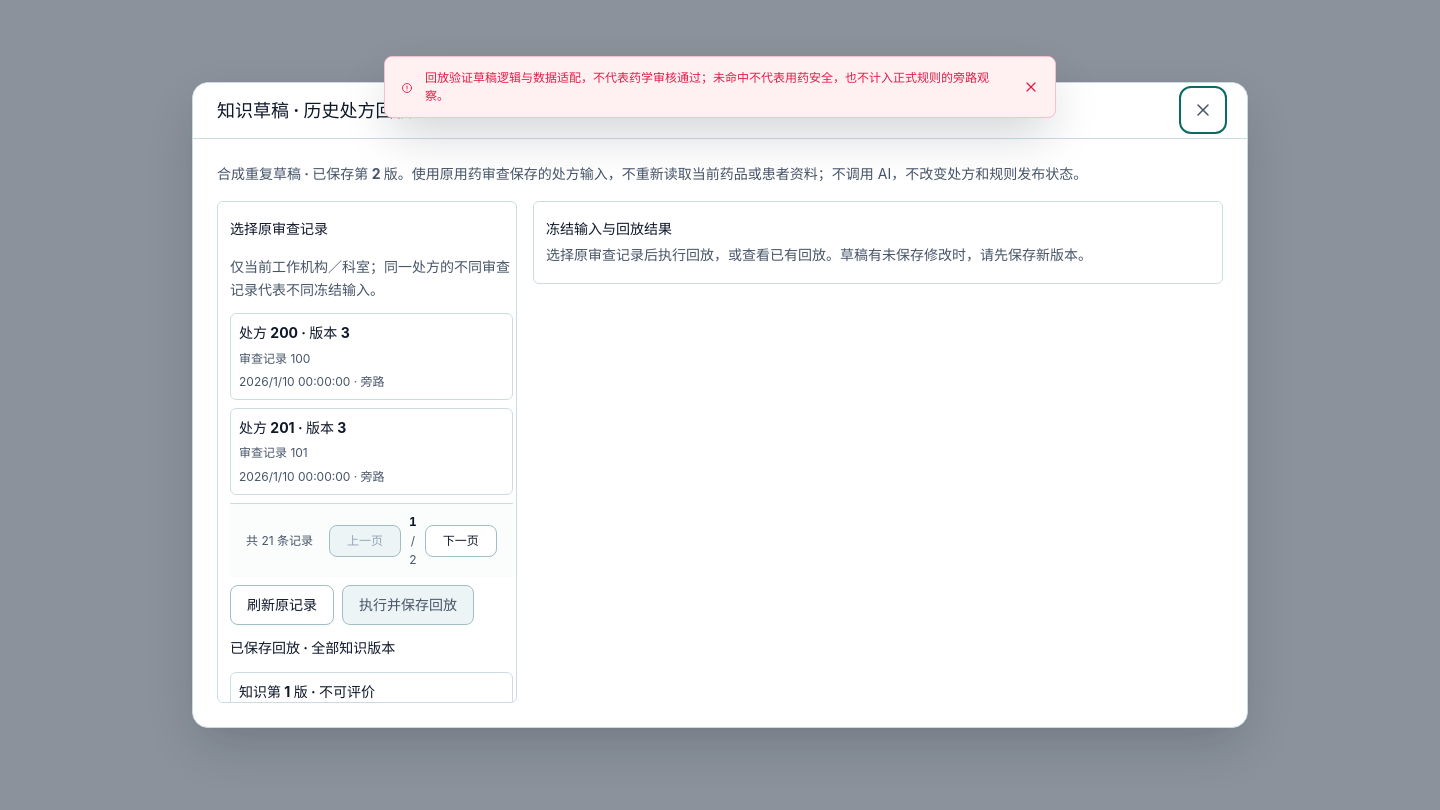
opens historical replay read-only and distinguishes saved version from current dependencies
The width and height of the screenshot is (1440, 810).
Click the button "知识第 1 版 · 不可评价 原审查 99 · 旧回放人 2026/1/1 00:00:00". click: point(262, 691)
box: top-left (230, 672), bottom-right (513, 759)
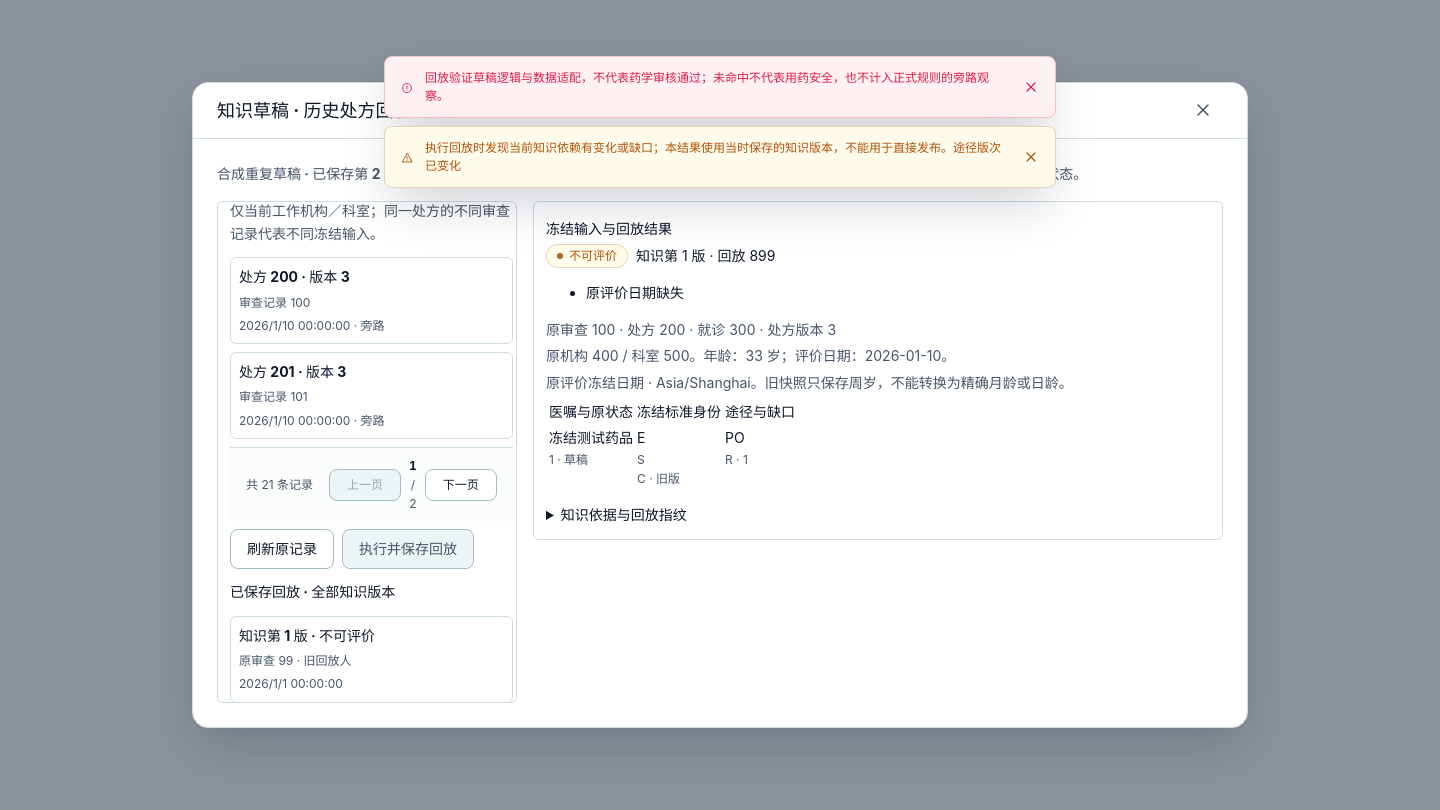
Expected: the list item "原评价日期缺失" is shown, top-left (586, 284), bottom-right (684, 302)
Expected: the text "知识第 1 版 · 回放 899" is shown, top-left (636, 245), bottom-right (776, 268)
Expected: the text "执行回放时发现当前知识依赖有变化或缺口；本结果使用当时保存的知识版本，不能用于直接发布。途径版次已变化" is shown, top-left (425, 139), bottom-right (1007, 175)
